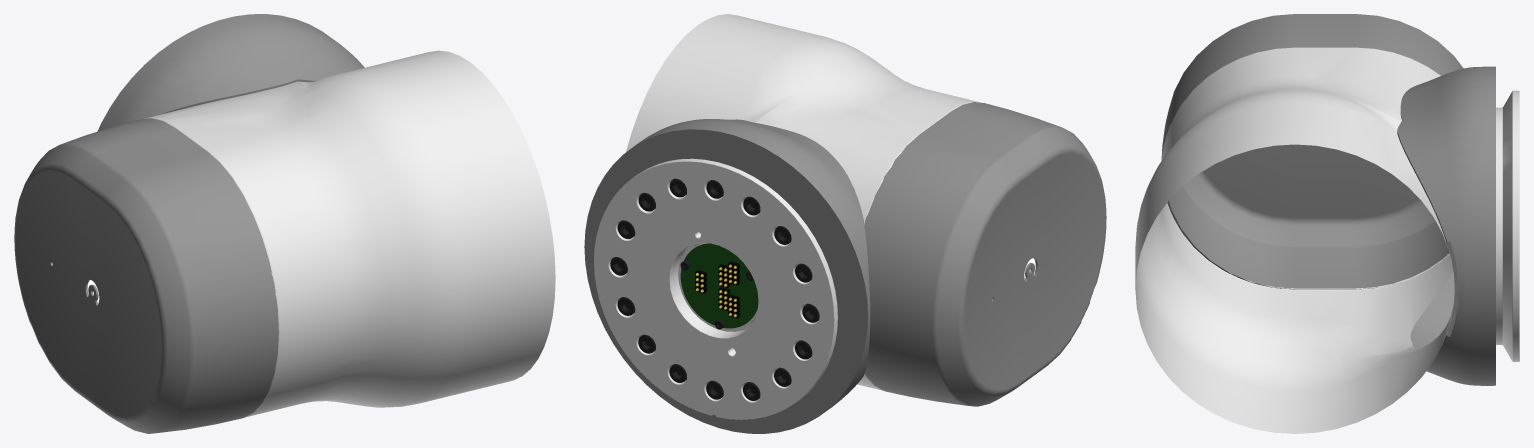
File: D148-romeo-proximal.glb
The picture shows the model from 3 angles, left to right: view 1: azimuth 30°, elevation 25°; view 2: azimuth 150°, elevation 25°; view 3: azimuth 270°, elevation 25°; orthographic projection. The views are drawn at different scales.
Parts seen in each view (by area): view 1: D148-romeo-proximal.001; view 2: D148-romeo-proximal.001; view 3: D148-romeo-proximal.001.
Boxes of the visible parts, <box> form: D148-romeo-proximal.001: <box>14,14,555,433</box>; D148-romeo-proximal.001: <box>584,14,1106,433</box>; D148-romeo-proximal.001: <box>1135,14,1519,433</box>.
Bounding box in the file's own units: 0.1893 × 0.148 × 0.178.
